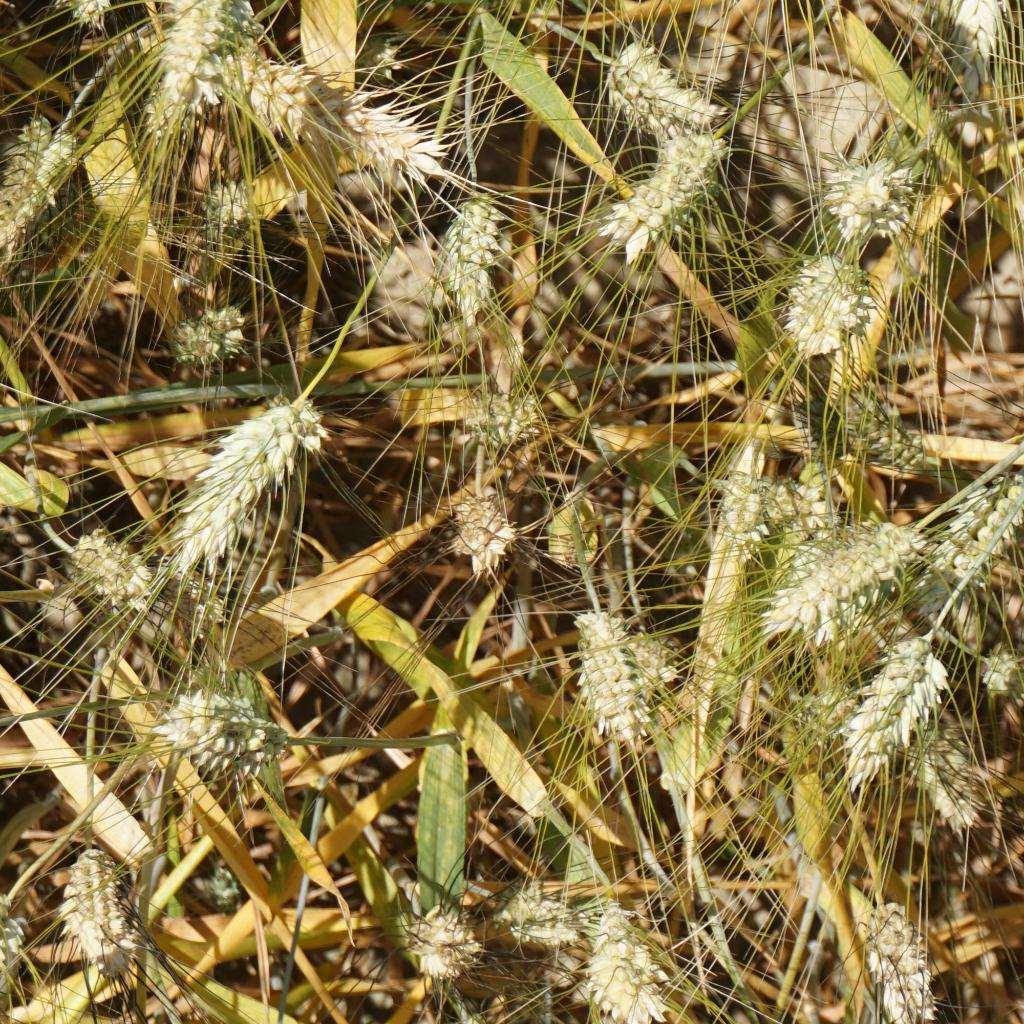0-0: (161, 386, 337, 567), (593, 129, 742, 269), (902, 471, 1024, 625), (145, 674, 292, 787), (141, 0, 251, 148), (841, 636, 941, 784), (892, 695, 986, 829), (793, 515, 905, 625), (58, 840, 141, 983), (225, 48, 347, 145), (598, 38, 718, 135), (854, 902, 944, 1024), (830, 376, 936, 479), (0, 123, 66, 280), (782, 245, 876, 355), (116, 550, 231, 637), (591, 906, 671, 1022), (337, 102, 439, 192), (824, 147, 919, 237), (453, 390, 553, 470), (442, 200, 504, 326), (79, 521, 161, 612), (579, 615, 640, 734), (787, 673, 869, 757), (400, 902, 480, 986), (920, 0, 1019, 67), (165, 296, 253, 371), (498, 883, 581, 954), (450, 487, 508, 578), (197, 171, 265, 245), (771, 473, 846, 540), (615, 630, 668, 721), (344, 25, 419, 89), (710, 462, 766, 543), (977, 639, 1024, 714), (43, 0, 132, 37), (204, 864, 249, 915)
